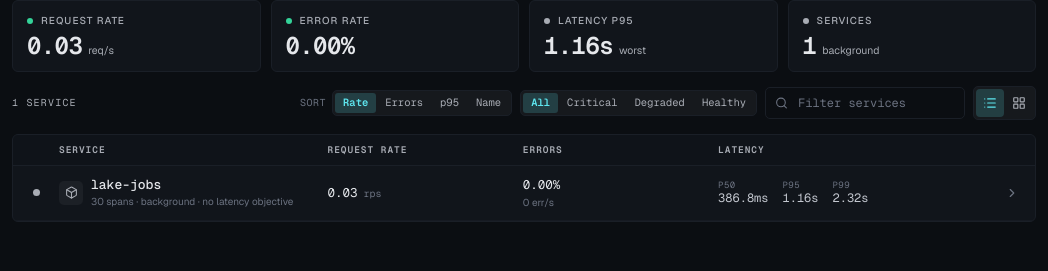
shows raw jobs percentiles neutrally in list and grid without suppressing errors
Expected: the text "386.8ms" is shown, [718,191,768,206]
Expected: the text "30 spans · background · no latency objective" is shown, [91,194,293,208]
Click the button named "grid view": (1019, 103) [1005,89,1033,117]
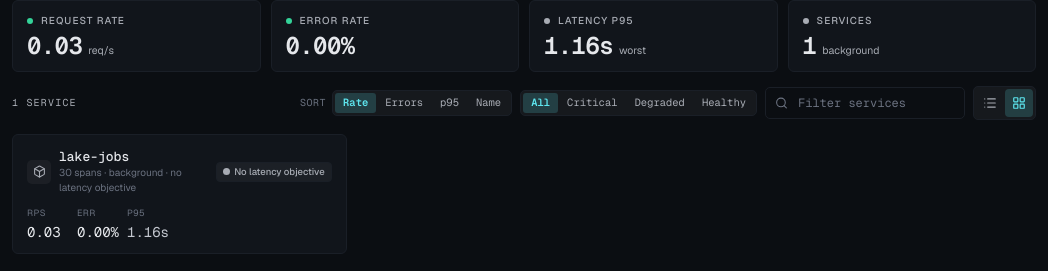
Expected: the button "Critical" is shown, [559,93,626,113]
Expected: the text "No latency objective" is shown, [216,162,332,182]
